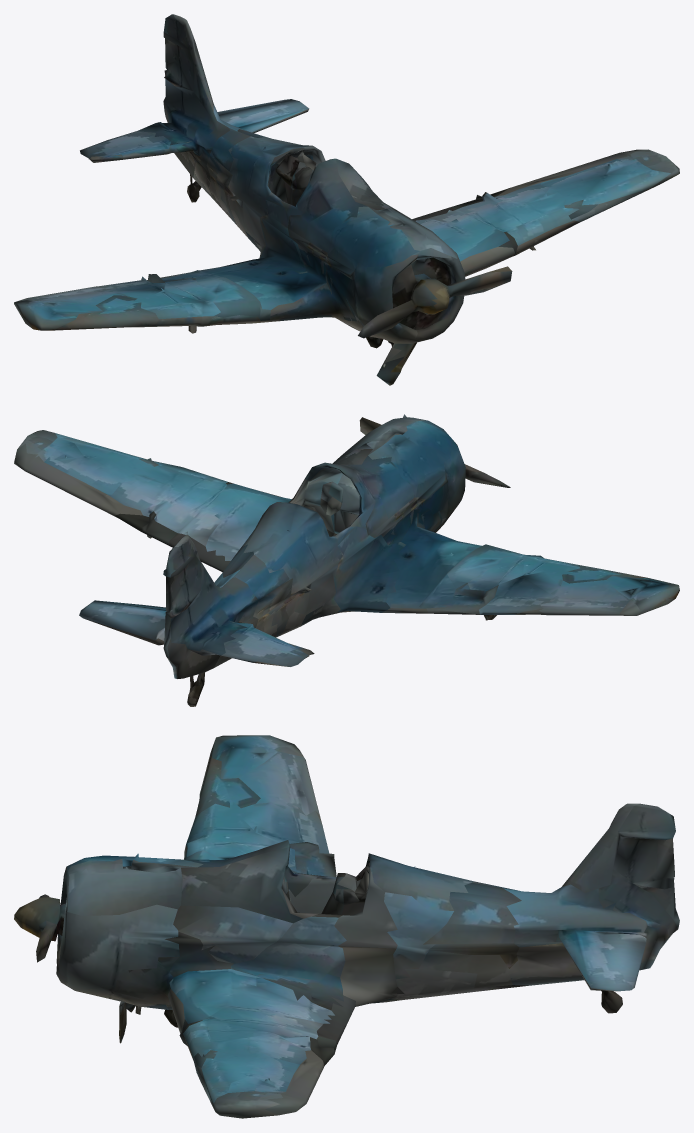
The model's file is p8fighter.glb.
The picture shows the model from 3 angles, top to bottom: view 1: azimuth 30°, elevation 25°; view 2: azimuth 150°, elevation 25°; view 3: azimuth 270°, elevation 25°; orthographic projection. The views are drawn at different scales.
Parts seen in each view (by area): view 1: tripo_node_cb1b9e39-0dd8-4652-8830-68c1f1aecb32; view 2: tripo_node_cb1b9e39-0dd8-4652-8830-68c1f1aecb32; view 3: tripo_node_cb1b9e39-0dd8-4652-8830-68c1f1aecb32.
Part boxes in pixels (bbox=[...]): tripo_node_cb1b9e39-0dd8-4652-8830-68c1f1aecb32: bbox=[14, 14, 679, 385]; tripo_node_cb1b9e39-0dd8-4652-8830-68c1f1aecb32: bbox=[14, 414, 679, 706]; tripo_node_cb1b9e39-0dd8-4652-8830-68c1f1aecb32: bbox=[14, 735, 679, 1118].
Size of the model in its own units: 0.999 by 0.3065 by 0.7541.
Materials: 1 (1 with a texture image).
